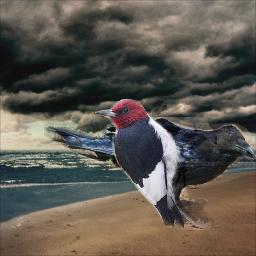Crow: (44, 117, 256, 230)
Woodpecker: (95, 99, 184, 228)
